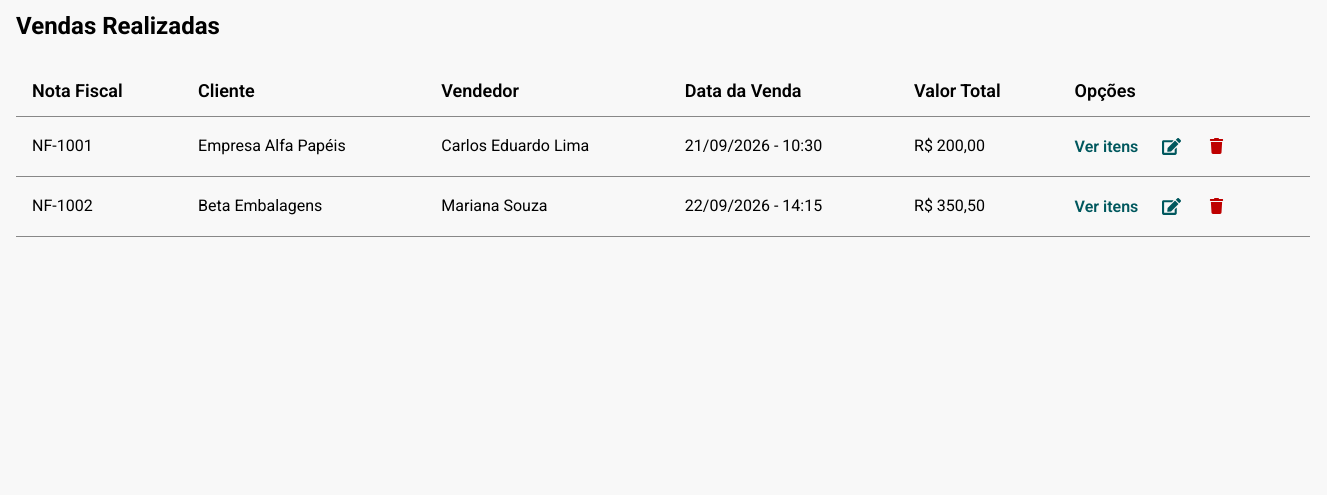
SalesList Page Component › expande e fecha a sub-tabela com produtos e totalizador ao clicar em Ver itens / Fechar
Expected: the text "NF-1001" is shown, [16,116,182,176]
Expected: the button named "editar venda nf-1001" is shown, [1158,133,1185,160]
Note: Expande a primeira venda
Click the button "Ver itens" in the row of "NF-1001" at (1106, 146), box [1075,137,1138,156]
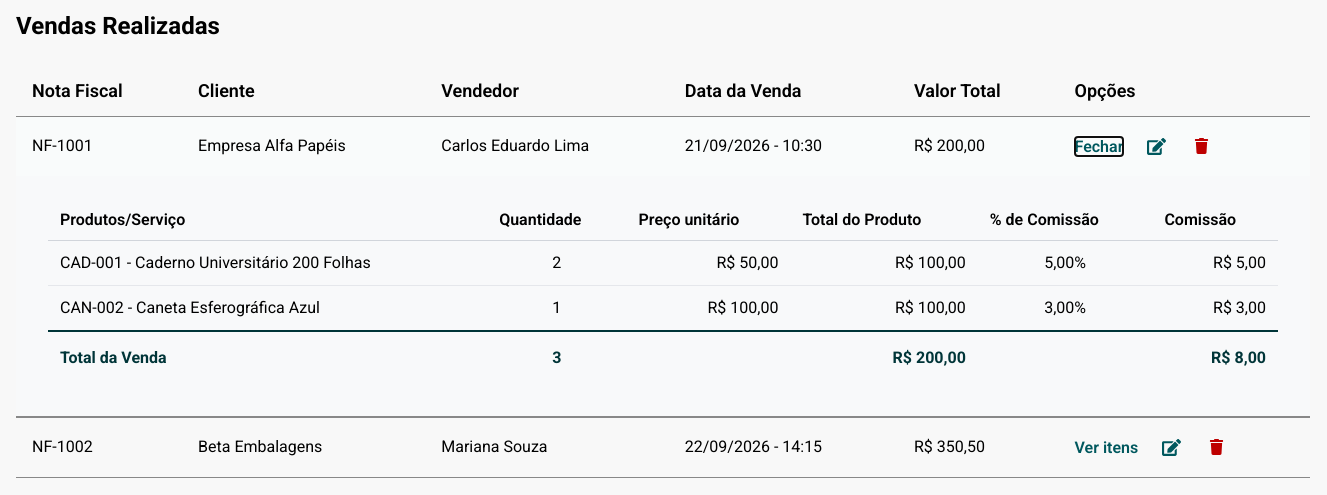
Expected: the button "Fechar" is shown
Expected: the column heading "Produtos/Serviço" is shown, [48,200,487,240]
Expected: the column heading "Quantidade" is shown, [487,200,627,240]
Note: Fecha a sub-tabela
Click the button "Fechar" at (1099, 146), box [1074,137,1123,156]
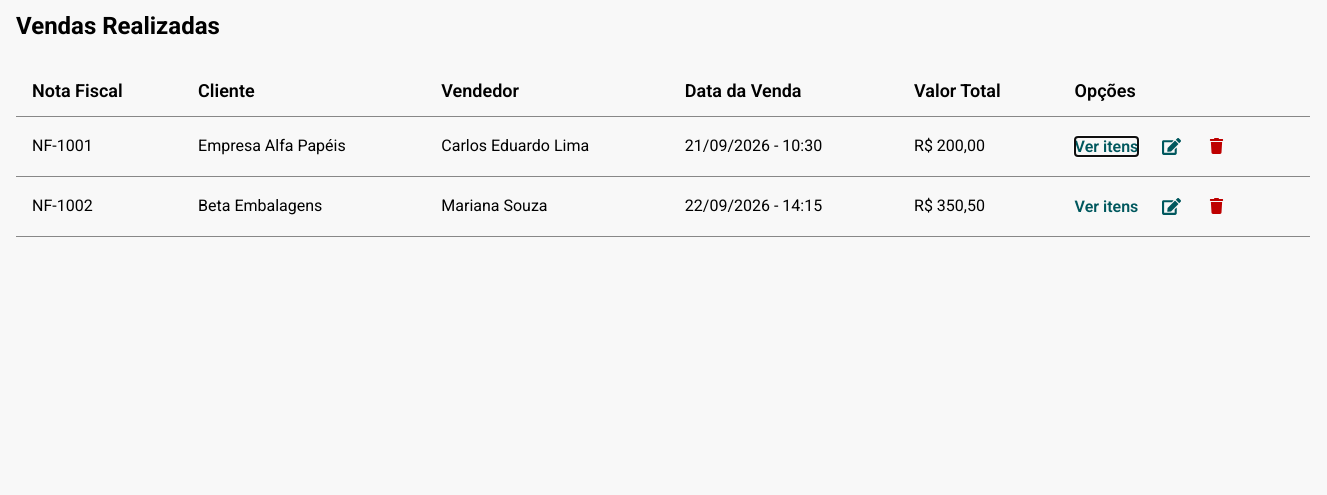
Expected: the number of buttons "Ver itens" is 2, [1075,137,1138,156]; [1075,197,1138,216]
Expected: the text "Caderno Universitário 200 Folhas" is gone
